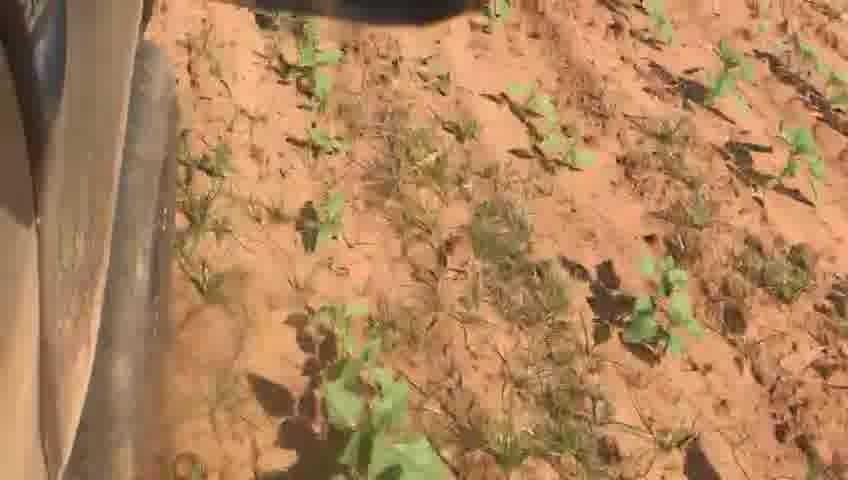sunflower: (298, 395, 454, 475), (313, 337, 408, 435), (618, 273, 698, 360), (768, 125, 826, 204), (288, 24, 344, 104), (702, 36, 756, 115), (303, 109, 361, 171), (306, 189, 355, 250), (517, 86, 551, 152), (557, 131, 604, 174)
